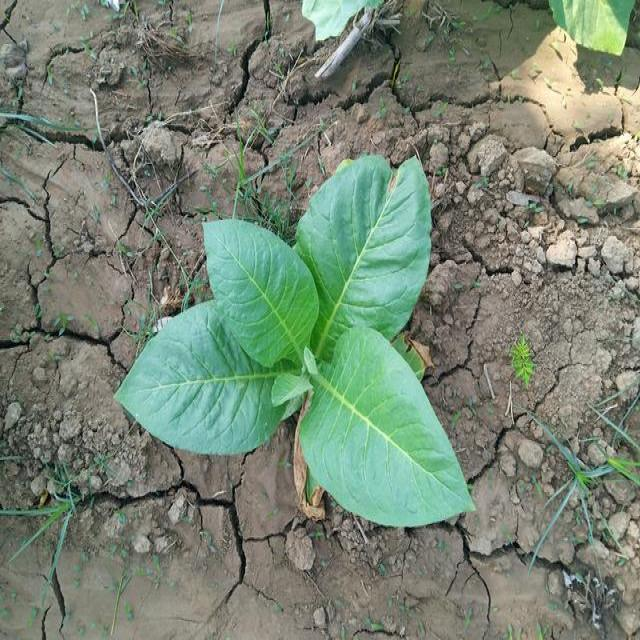crop: (133, 165, 468, 542), (546, 3, 634, 62), (295, 0, 377, 37)
